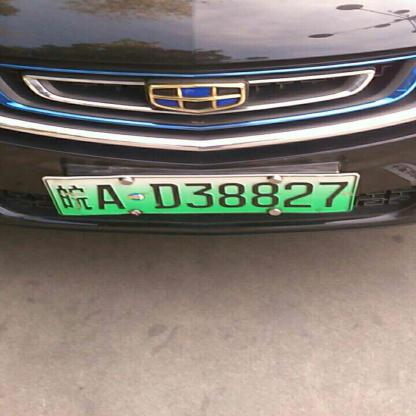lp: (47, 176, 62, 215)
